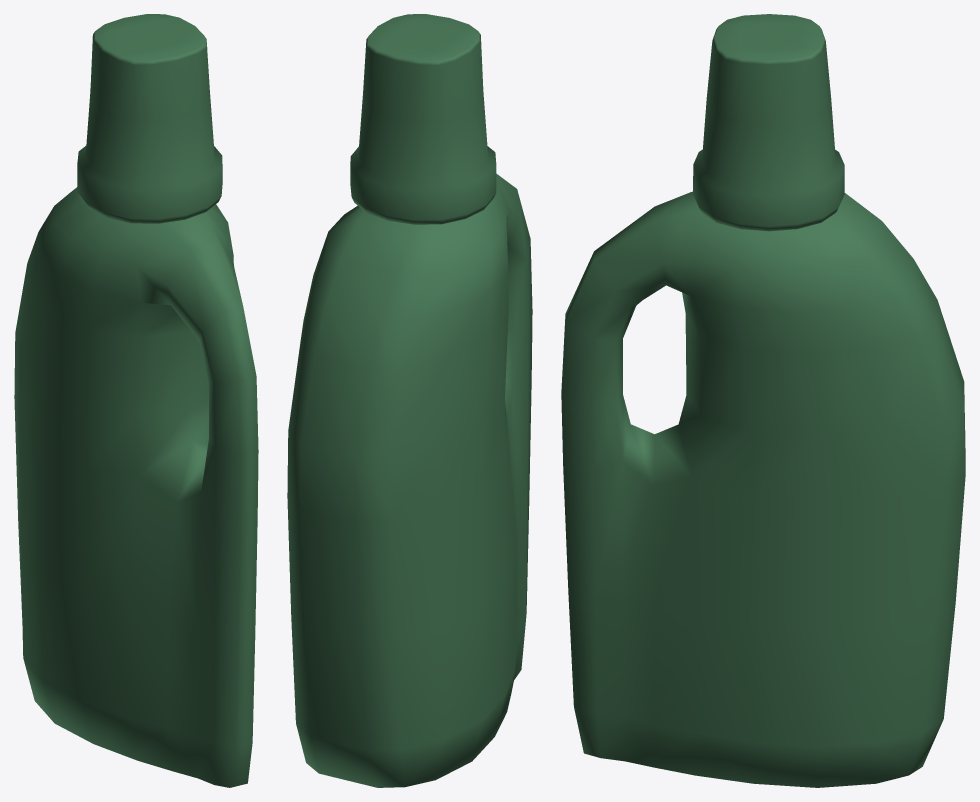
Rendered from Household_Products_04.fbx.
3 views of the same model, side by side, from view 1: azimuth 30°, elevation 25°; view 2: azimuth 150°, elevation 25°; view 3: azimuth 270°, elevation 25° (orthographic). The views are drawn at different scales.
Parts seen in each view (by area): view 1: Household_Products_04; view 2: Household_Products_04; view 3: Household_Products_04.
Boxes of the visible parts, left/top/right/bottom form: Household_Products_04: left=14, top=14, right=258, bottom=787; Household_Products_04: left=287, top=14, right=532, bottom=787; Household_Products_04: left=561, top=14, right=965, bottom=787.
Bounding box in the file's own units: 12.6 × 49.83 × 25.47.
